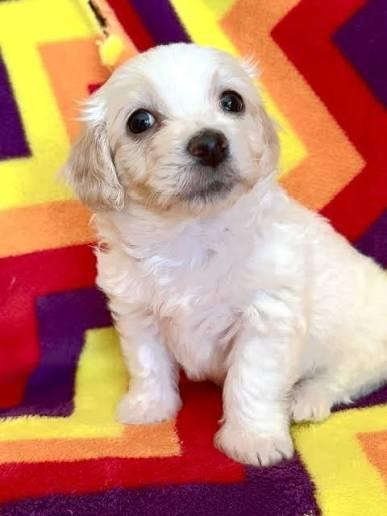puppy-dog: (56, 44, 387, 468)
